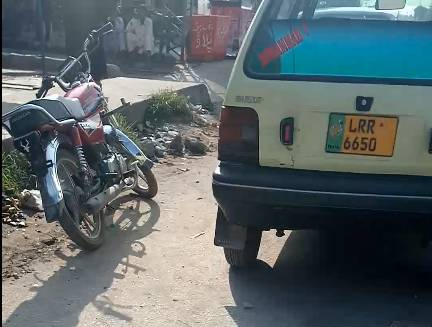number_plate: (327, 113, 397, 159)
